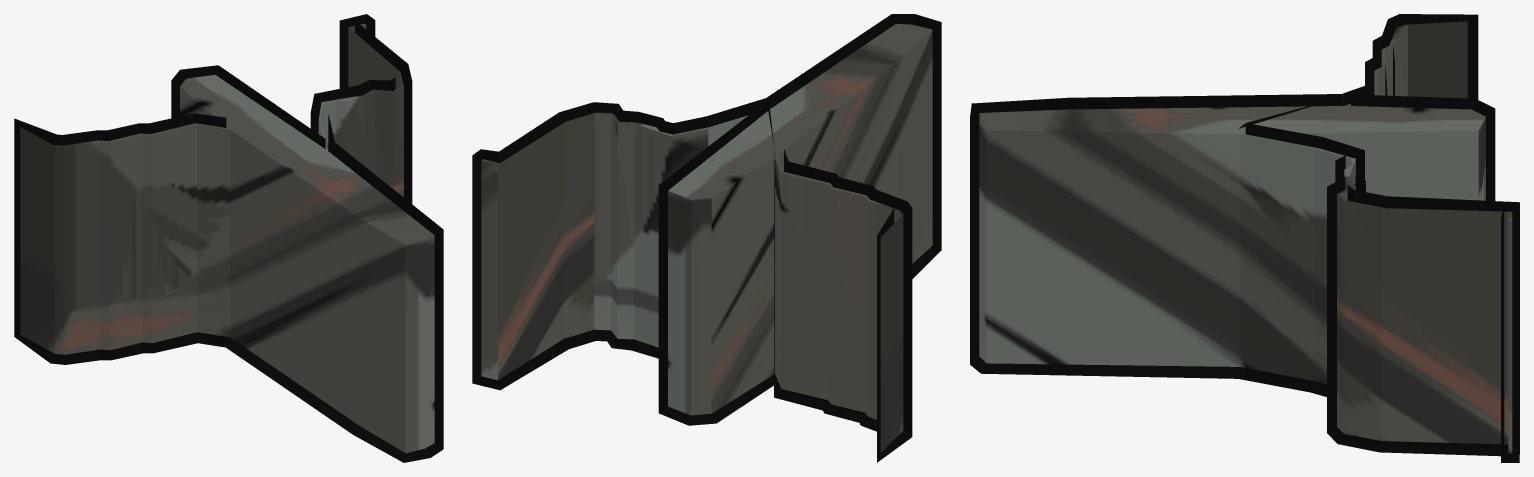
File: Building_AncientTankTrap_Things_Building_Ruins_AncientTankTrap_AncientTankTrapA.glb
3 renders of one model, left to right at view 1: azimuth 30°, elevation 25°; view 2: azimuth 150°, elevation 25°; view 3: azimuth 270°, elevation 25°, orthographic. The views are drawn at different scales.
Parts seen in each view (by area): view 1: Body, Outline; view 2: Body, Outline; view 3: Body, Outline.
Part boxes in pixels (<box>): Body: <box>20,23,434,453</box>; Outline: <box>14,14,443,462</box>; Body: <box>481,24,932,452</box>; Outline: <box>472,14,941,462</box>; Body: <box>979,21,1512,453</box>; Outline: <box>970,14,1519,462</box>.
Size of the model in its own units: 0.899 by 0.5274 by 1.03.
2 materials, 1 textured.
